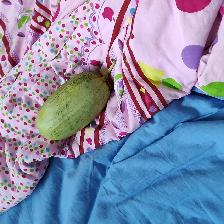gua: (38, 76, 101, 132)
